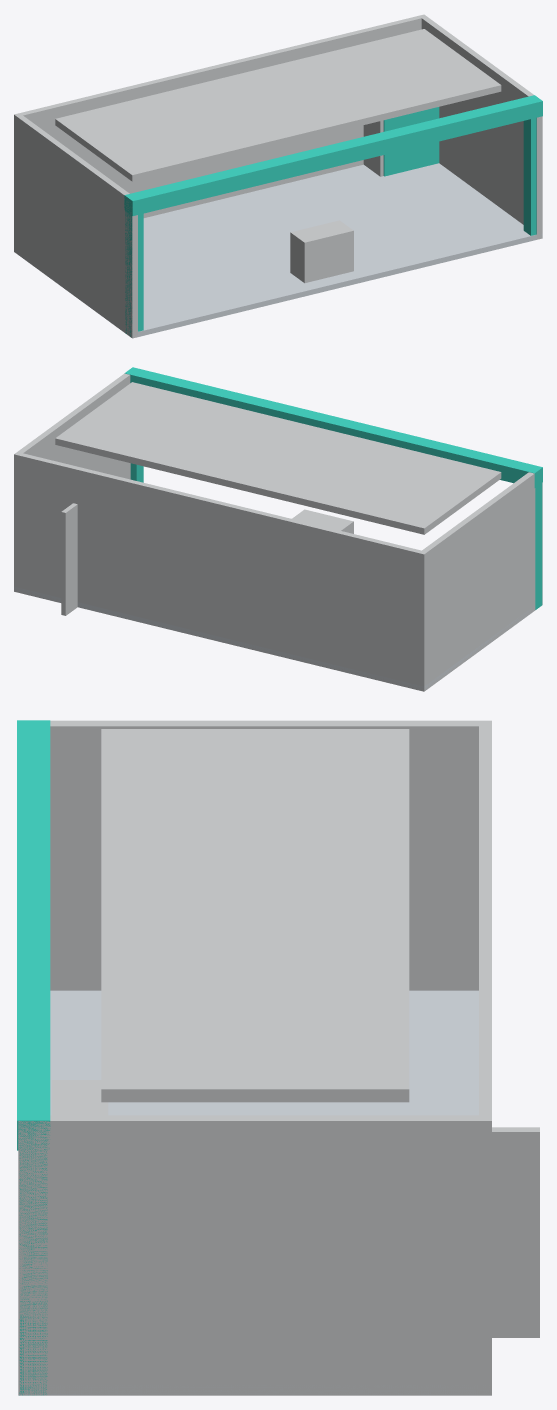
3 views of the same model, one above another, from view 1: azimuth 30°, elevation 25°; view 2: azimuth 150°, elevation 25°; view 3: azimuth 270°, elevation 25° (orthographic). The views are drawn at different scales.
Visible parts, largest first — view 1: Exhibition Booth Concept; view 2: Exhibition Booth Concept; view 3: Exhibition Booth Concept.
Boxes of the visible parts, box(x1,y1,x2,y2) form: Exhibition Booth Concept: box(14, 14, 542, 338); Exhibition Booth Concept: box(14, 367, 542, 691); Exhibition Booth Concept: box(17, 720, 539, 1395).
Bounding box in the file's own units: 10 × 3.34 × 5.52.
